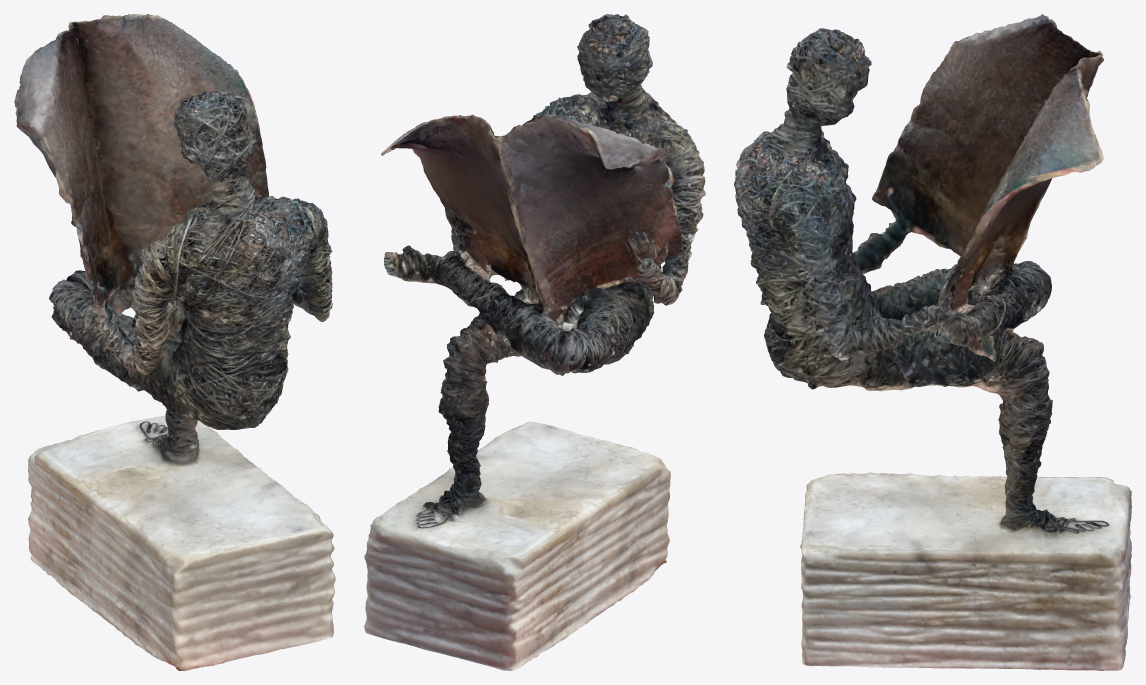
The model's file is landing_3d.glb.
The picture shows the model from 3 angles, left to right: view 1: azimuth 30°, elevation 25°; view 2: azimuth 150°, elevation 25°; view 3: azimuth 270°, elevation 25°; orthographic projection. The views are drawn at different scales.
Parts seen in each view (by area): view 1: Object_4, Object_5, Object_6, Object_7; view 2: Object_4, Object_6, Object_5, Object_7; view 3: Object_4, Object_6, Object_5, Object_7.
Boxes of the visible parts, <box> form: Object_4: <box>14,15,335,654</box>; Object_5: <box>14,14,334,670</box>; Object_6: <box>15,14,334,670</box>; Object_7: <box>15,14,334,670</box>; Object_4: <box>365,20,701,670</box>; Object_6: <box>364,14,705,670</box>; Object_5: <box>364,14,704,667</box>; Object_7: <box>383,14,705,632</box>; Object_4: <box>734,17,1131,667</box>; Object_6: <box>735,14,1131,670</box>; Object_5: <box>734,16,1131,670</box>; Object_7: <box>734,14,1130,666</box>.
Size of the model in its own units: 0.1501 by 0.2888 by 0.1798.
1 material, 1 textured.
